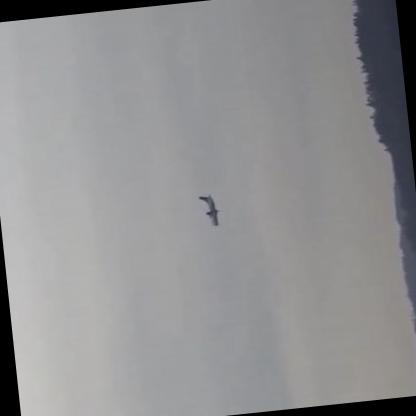plane: (198, 192, 221, 228)
